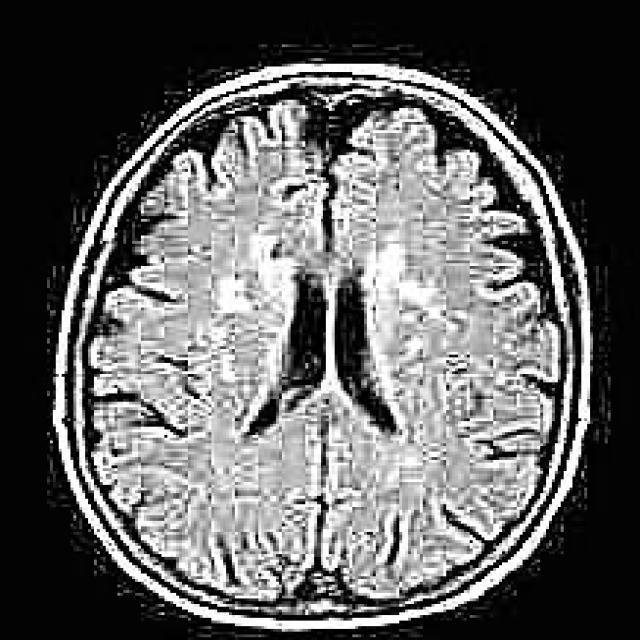notumor: (53, 64, 587, 629)
